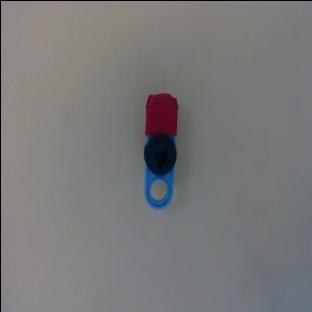part_1_good: (141, 92, 177, 208)
